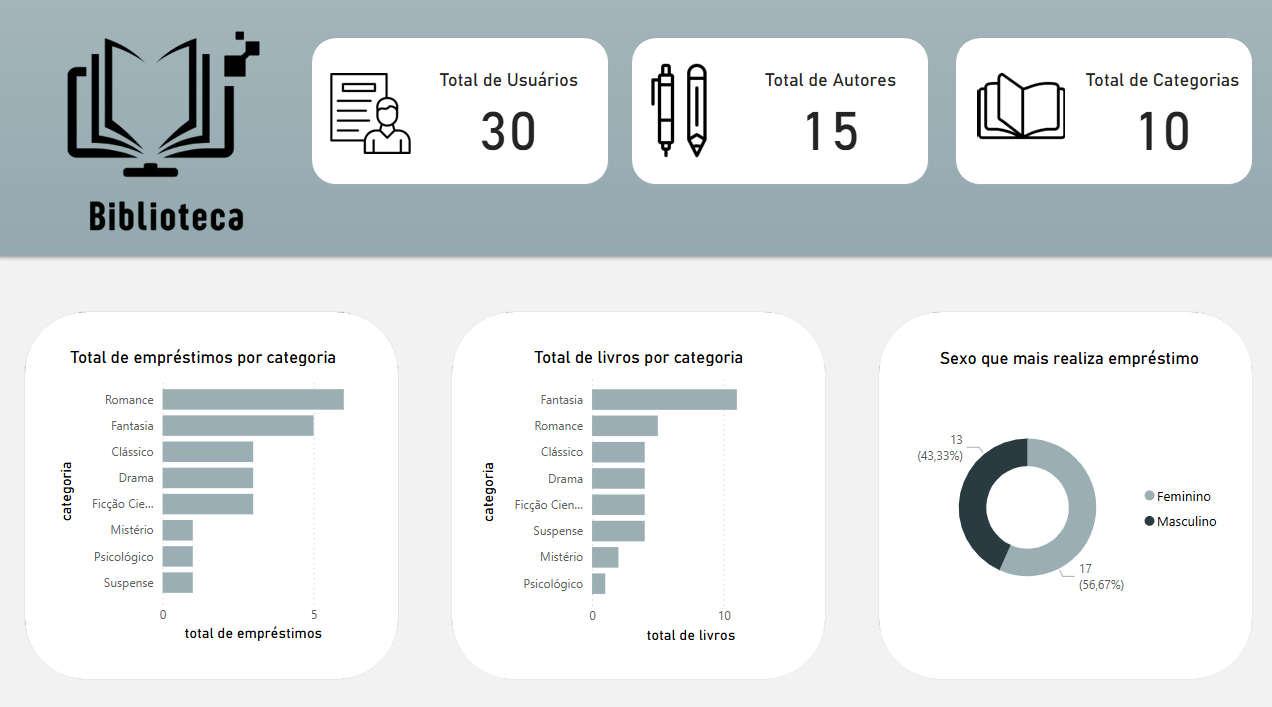

What the dashboard file says about the page in this screenshot:
{"tool":"powerbi","page":{"name":"Página 1","canvas":[1280,720],"ordinal":0},"visuals":[{"type":"donutChart","title":"Sexo que mais realiza empréstimo","fields":{"Category":["biblioteca usuarios.sexo"],"Y":["CountNonNull(biblioteca usuarios.sexo)"]},"box":[908.8,350,325,300],"z":0},{"type":"barChart","title":"Total de empréstimos por categoria","fields":{"Y":["Sum(biblioteca vw_emprestimos_por_categoria.total_emprestimos)"],"Category":["biblioteca vw_emprestimos_por_categoria.categoria"]},"box":[55,348.8,300,300],"z":1000},{"type":"barChart","title":"Total de livros por categoria","fields":{"Y":["Sum(biblioteca vw_livros_por_categoria.total_livros)"],"Category":["biblioteca vw_livros_por_categoria.categoria"]},"box":[477.5,348.8,326.2,301.2],"z":2000},{"type":"card","title":"Total de Usuários","fields":{"Values":["biblioteca usuarios.Total de Usuários"]},"box":[420,71.2,181.2,90],"z":3000},{"type":"card","title":"Total de Autores","fields":{"Values":["CountNonNull(biblioteca autores.id_autor)"]},"box":[738.8,71.2,187.5,90],"z":4000},{"type":"card","title":"Total de Categorias","fields":{"Values":["CountNonNull(biblioteca categorias.id_categoria)"]},"box":[1080,71.2,168.8,90],"z":5000}]}

Visuals, with their boxes in screenshot pixels (x1, y1, x2, y2), scaled from the page's 1280x720 canvas onto the 1272x707 screenshot:
"Sexo que mais realiza empréstimo" donutChart: (903, 344, 1226, 638)
"Total de empréstimos por categoria" barChart: (55, 343, 353, 637)
"Total de livros por categoria" barChart: (475, 343, 799, 638)
"Total de Usuários" card: (417, 70, 597, 158)
"Total de Autores" card: (734, 70, 921, 158)
"Total de Categorias" card: (1073, 70, 1241, 158)
